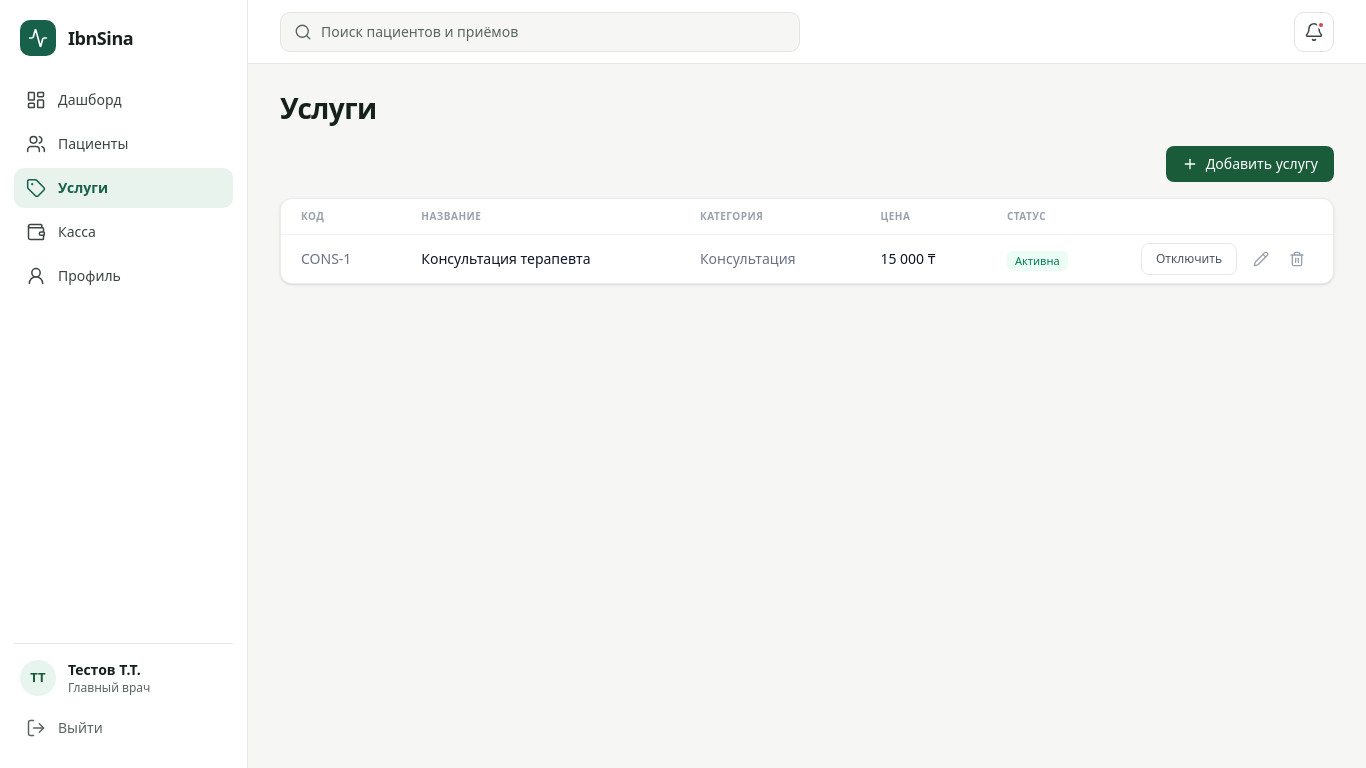
Test: услуги › удаление: 409 — «Невозможно удалить», можно только отключить
Click the button named "Удалить Консультация терапевта" at {"x": 1297, "y": 259}, box left=1281, top=243, right=1313, bottom=275
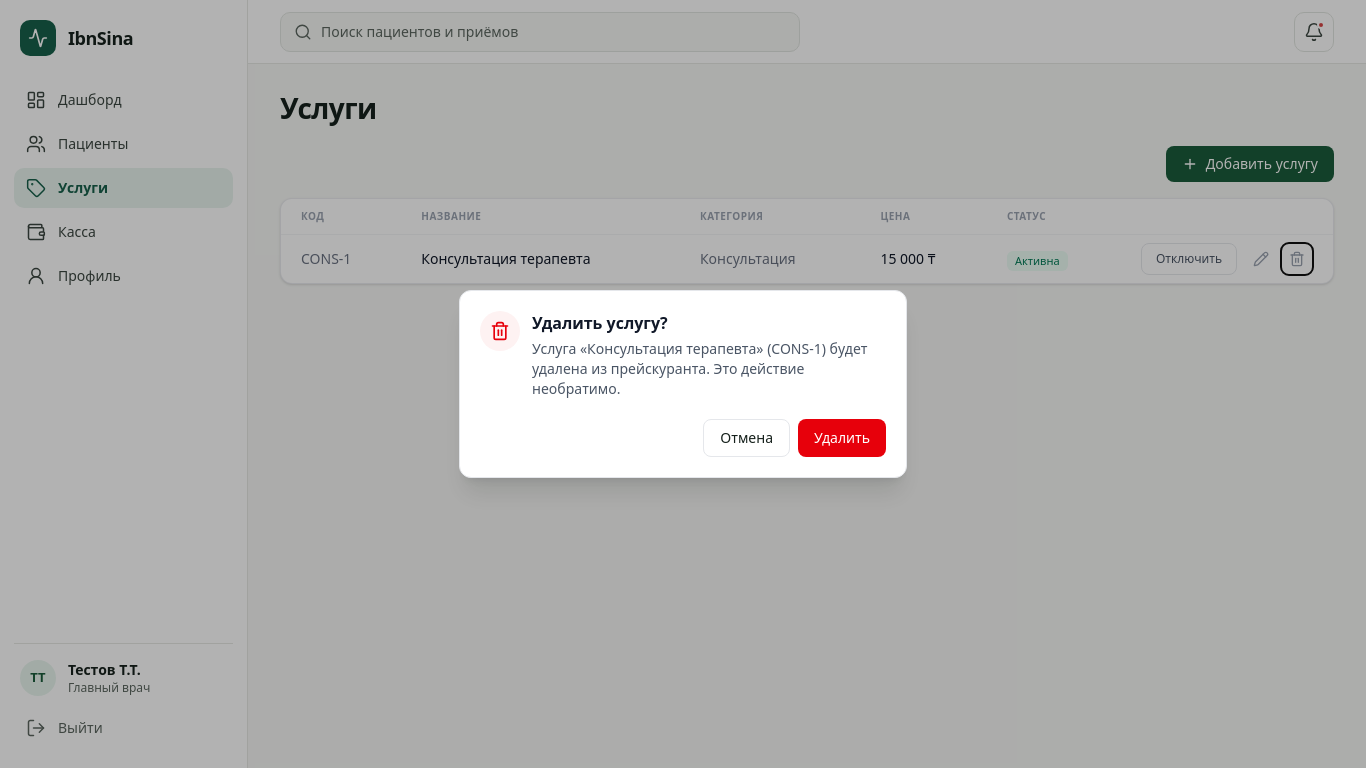
Click the button "Удалить" at {"x": 842, "y": 438}, box left=798, top=419, right=886, bottom=457
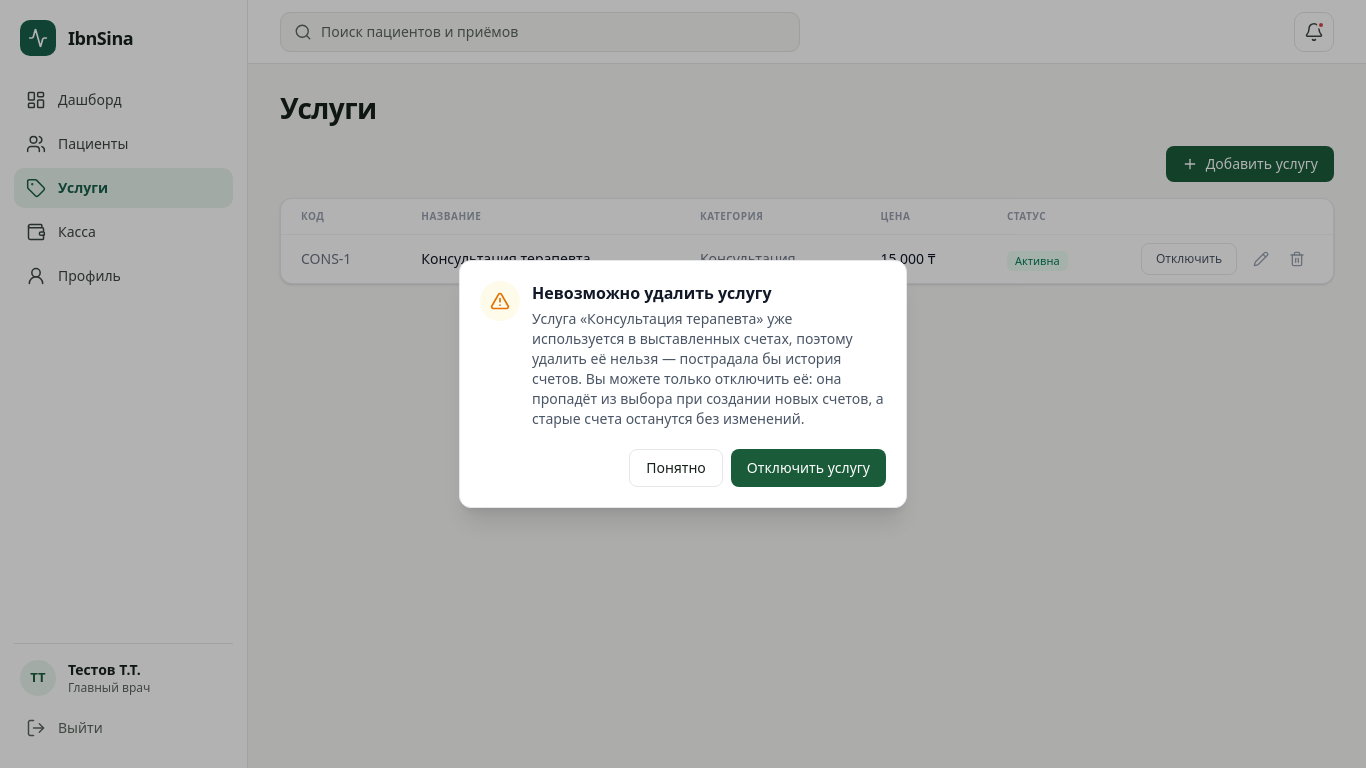
Check: the text "Консультация терапевта" is shown, box left=401, top=234, right=680, bottom=283
Check: the heading "Невозможно удалить услугу" is shown, box left=532, top=282, right=772, bottom=304
Check: the text "можете только отключить" is shown, box left=532, top=369, right=884, bottom=428
Click the button "Отключить услугу" at {"x": 808, "y": 468}, box left=731, top=449, right=886, bottom=487
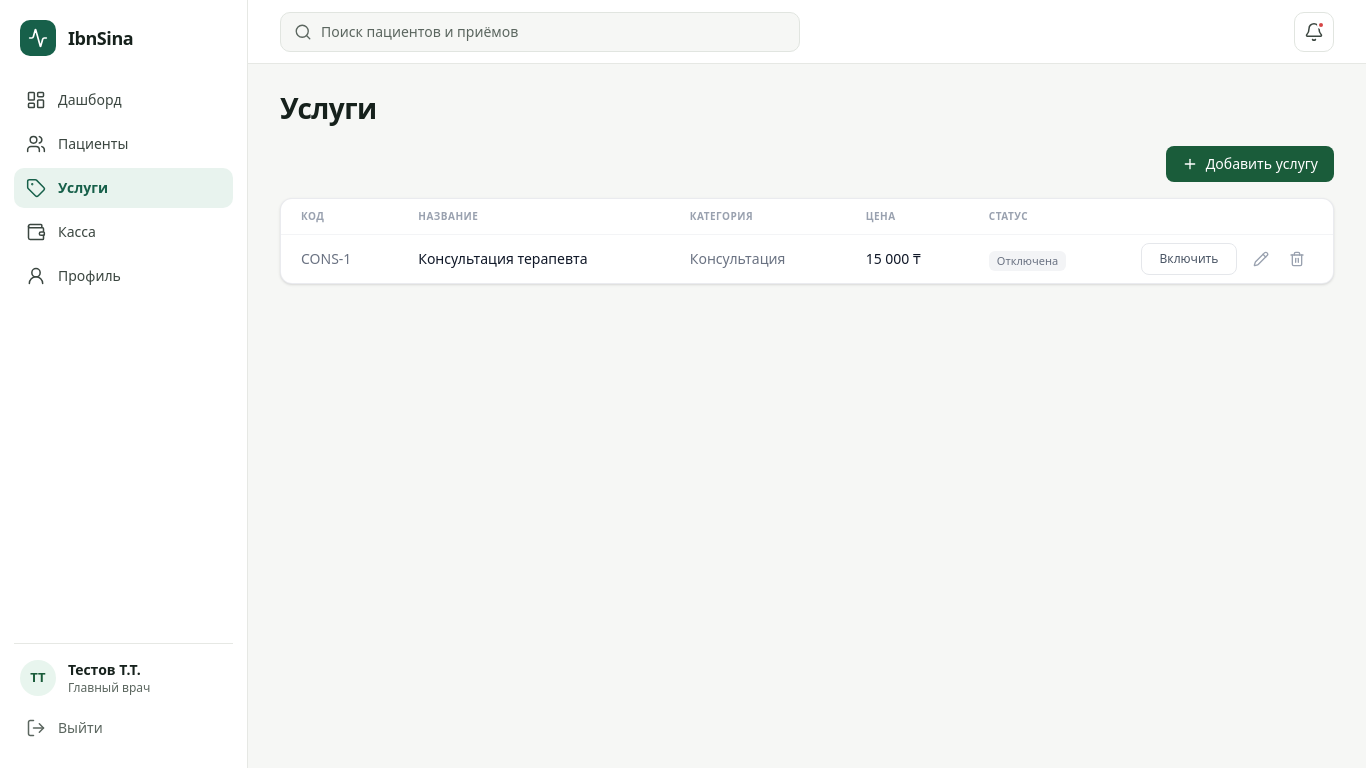
Check: the text "Отключена" is shown, box left=989, top=251, right=1066, bottom=271
Check: the dialog is gone
